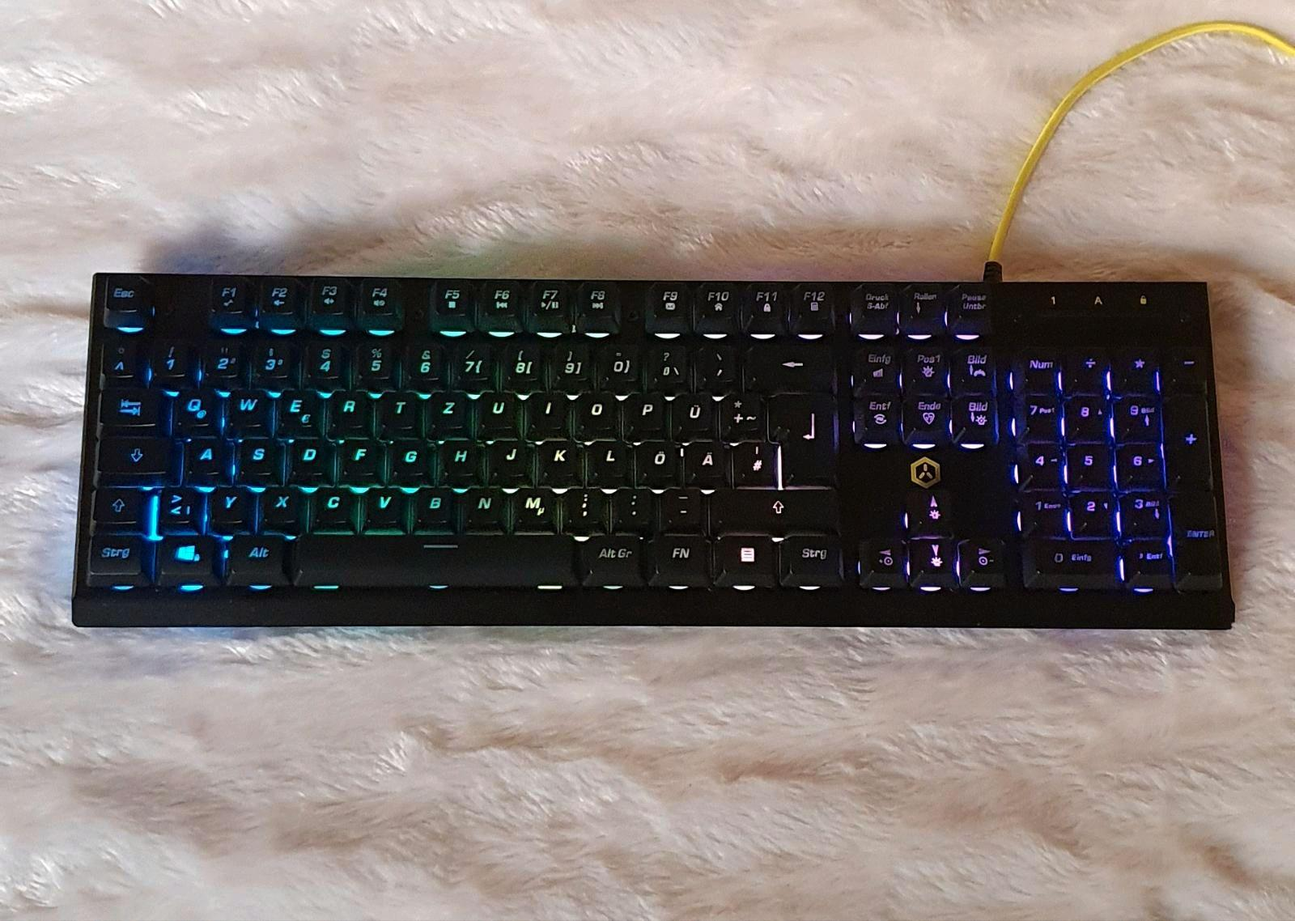0: (596, 340, 640, 385)
1: (146, 334, 190, 379)
2: (199, 340, 242, 380)
3: (249, 337, 292, 381)
4: (303, 339, 343, 380)
5: (352, 340, 394, 384)
6: (401, 337, 444, 384)
7: (449, 337, 492, 383)
8: (499, 336, 541, 388)
9: (547, 336, 591, 388)
a: (181, 436, 227, 482)
accent: (694, 342, 736, 389)
ae: (683, 438, 725, 484)
alt-left: (223, 531, 286, 584)
altgr-right: (580, 531, 642, 584)
b: (410, 483, 453, 528)
c: (307, 483, 353, 528)
caret: (100, 339, 137, 375)
comma: (561, 484, 604, 530)
d: (285, 437, 329, 481)
del: (741, 341, 832, 390)
e: (274, 386, 318, 435)
enter: (768, 389, 834, 485)
f: (337, 436, 380, 482)
g: (386, 437, 428, 482)
h: (438, 436, 478, 480)
hash: (729, 437, 777, 485)
i: (523, 388, 566, 435)
j: (486, 437, 529, 481)
k: (536, 435, 579, 483)
keyboard: (59, 268, 1246, 629)
l: (585, 436, 628, 482)
less: (154, 483, 198, 530)
m: (508, 484, 555, 529)
minus: (657, 484, 701, 530)
n: (459, 484, 503, 528)
o: (571, 388, 617, 436)
oe: (634, 438, 679, 483)
p: (621, 389, 665, 435)
plus: (717, 391, 762, 438)
point: (610, 484, 652, 529)
q: (170, 388, 219, 432)
r: (324, 386, 371, 435)
s: (234, 436, 278, 481)
shift-left: (89, 486, 143, 524)
shift-lock: (93, 435, 175, 479)
shift-right: (707, 486, 839, 533)
space: (291, 531, 576, 587)
ss: (646, 342, 686, 388)
strg-left: (83, 531, 143, 576)
strg-right: (778, 531, 844, 585)
t: (376, 387, 418, 434)
tab: (95, 388, 160, 427)
u: (474, 388, 517, 435)
ue: (669, 390, 713, 435)
v: (361, 484, 403, 527)
w: (224, 386, 270, 435)
x: (258, 483, 301, 528)
y: (207, 483, 250, 527)
z: (423, 387, 467, 435)
